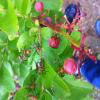Blueberry leaf: (0, 1, 21, 40)
